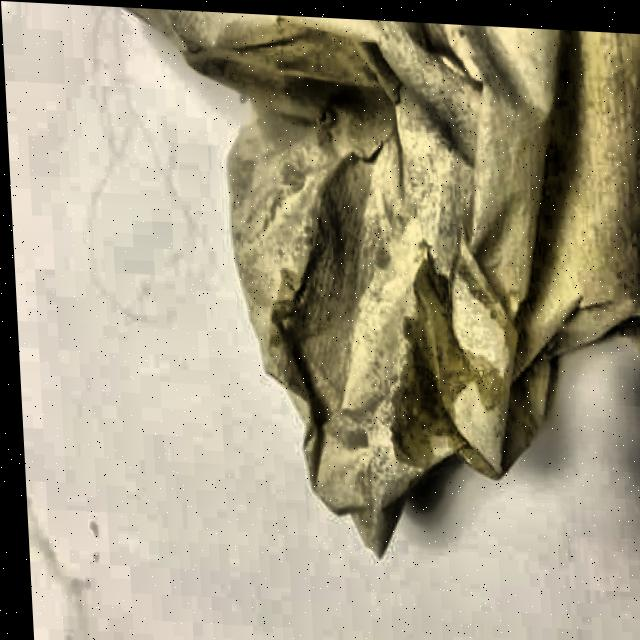paper: (118, 6, 640, 577)
